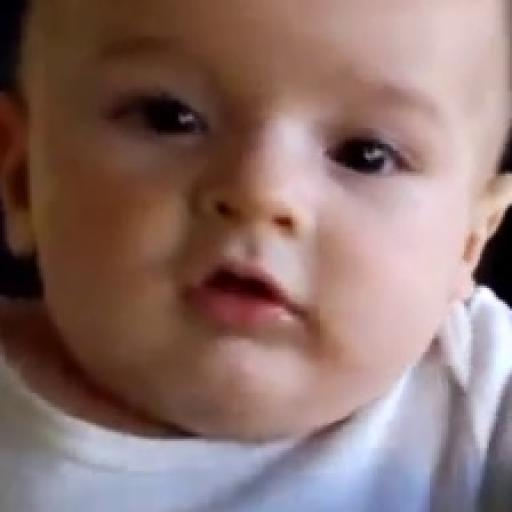Autism: (26, 9, 483, 476)
